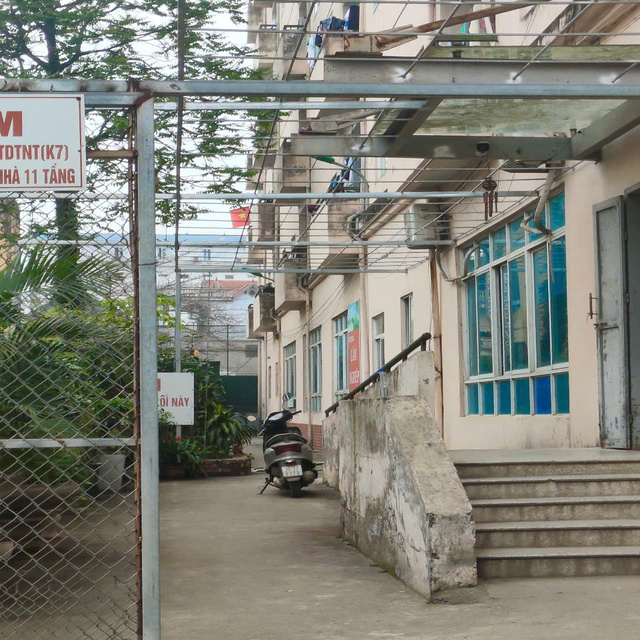laco: (223, 205, 257, 233)
